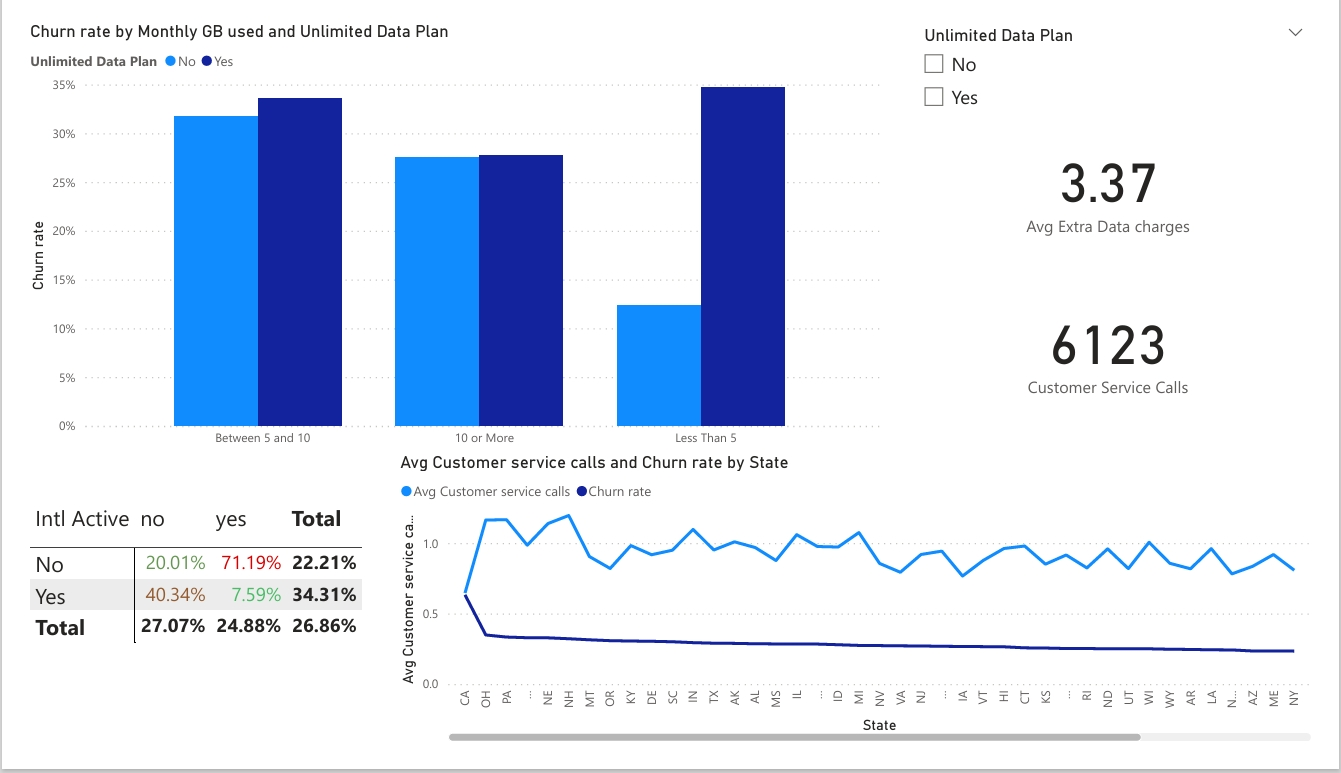

This screenshot's page, from the dashboard's own definition file:
{"tool":"powerbi","page":{"name":"Unlimited Plan & GB used & nternation Calls","canvas":[1280,720],"ordinal":3},"visuals":[{"type":"clusteredColumnChart","fields":{"Category":["Databel - Data.Monthly GB used"],"Y":["Databel - Data.Churn rate"],"Series":["Databel - Data.Unlimited Data Plan"]},"box":[0,1.2,855.7,445],"z":0},{"type":"pivotTable","fields":{"Rows":["Databel - Data.Intl Active"],"Columns":["Databel - Data.Intl Plan"],"Values":["Databel - Data.Churn rate"]},"box":[0,473.1,366.7,201.7],"z":1000},{"type":"card","fields":{"Values":["Databel - Data.Avg Extra Data charges"]},"box":[868.3,88.3,411.7,155],"z":2000},{"type":"card","fields":{"Values":["Sum(Databel - Data.Customer Service Calls)"]},"box":[868.3,223.3,411.7,205],"z":3000},{"type":"slicer","fields":{"Values":["Databel - Data.Unlimited Data Plan"]},"box":[878.6,0,401.4,127.1],"z":4000},{"type":"lineChart","fields":{"Y":["Databel - Data.Avg Customer service calls","Databel - Data.Churn rate"],"Category":["Databel - Data.State"]},"box":[366.7,428.3,913.3,291.7],"z":5000}]}

Visuals, with their boxes in screenshot pixels (x1, y1, x2, y2), scaled from the page's 1280x720 canvas onto the 1341x773 screenshot:
clusteredColumnChart - Databel - Data.Monthly GB used x Databel - Data.Churn rate: bbox(0, 1, 896, 479)
pivotTable - Databel - Data.Intl Active x Databel - Data.Intl Plan: bbox(0, 508, 384, 724)
card - Databel - Data.Avg Extra Data charges: bbox(910, 95, 1340, 261)
card - Sum(Databel - Data.Customer Service Calls): bbox(910, 240, 1340, 460)
slicer - Databel - Data.Unlimited Data Plan: bbox(920, 0, 1340, 136)
lineChart - Databel - Data.Avg Customer service calls x Databel - Data.Churn rate: bbox(384, 460, 1340, 772)
